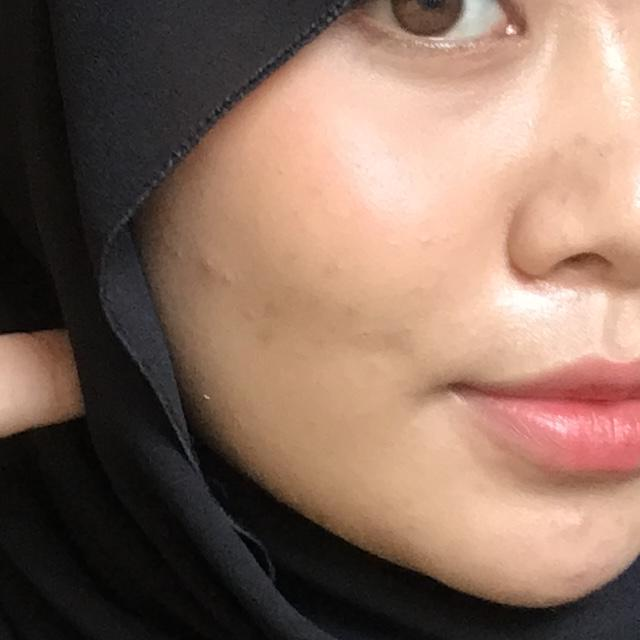mendengar: (0, 0, 305, 616)
